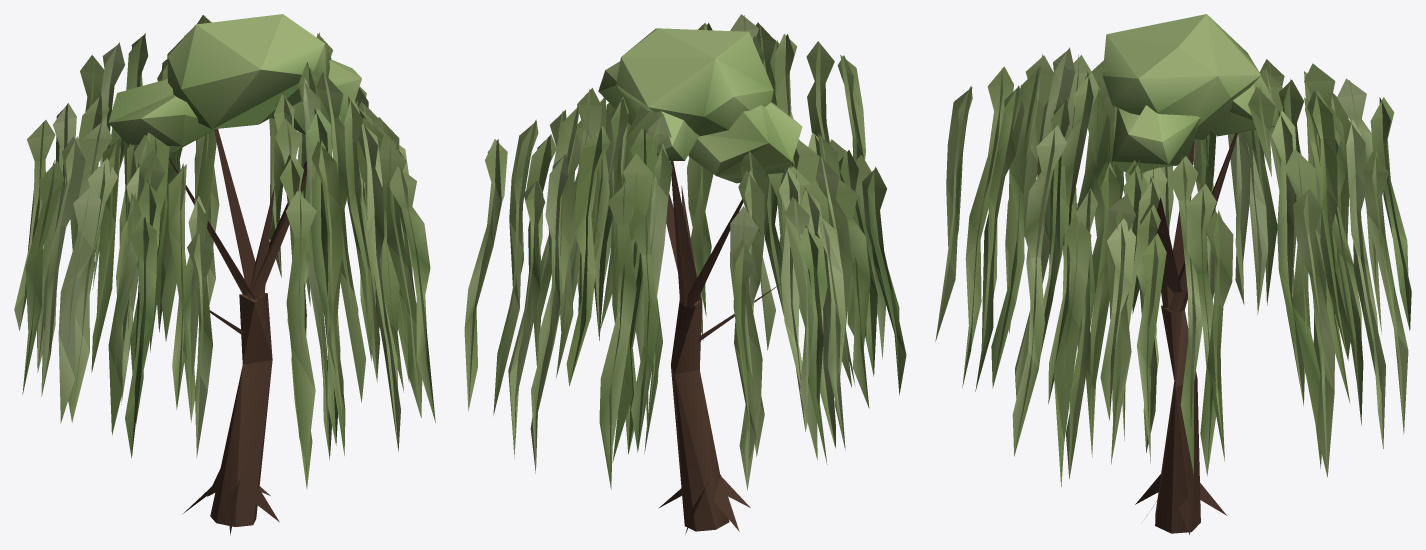
The model's file is river_willow-lod1.glb.
3 views of the same model, side by side, from view 1: azimuth 30°, elevation 25°; view 2: azimuth 150°, elevation 25°; view 3: azimuth 270°, elevation 25° (orthographic). The views are drawn at different scales.
Parts seen in each view (by area): view 1: river_willow; view 2: river_willow; view 3: river_willow.
Boxes of the visible parts, left/top/right/bottom form: river_willow: left=14, top=14, right=435, bottom=535; river_willow: left=464, top=14, right=906, bottom=533; river_willow: left=935, top=14, right=1411, bottom=534.
Bounding box in the file's own units: 7.29 × 10.11 × 8.7.
